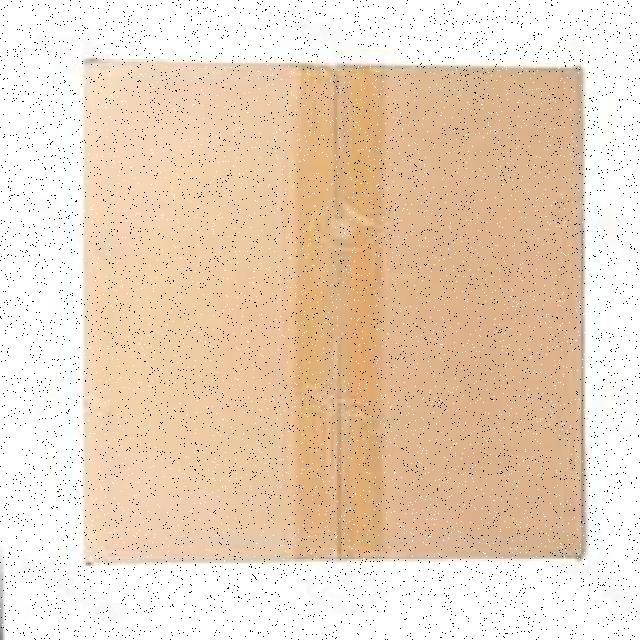normal: (79, 54, 596, 572)
